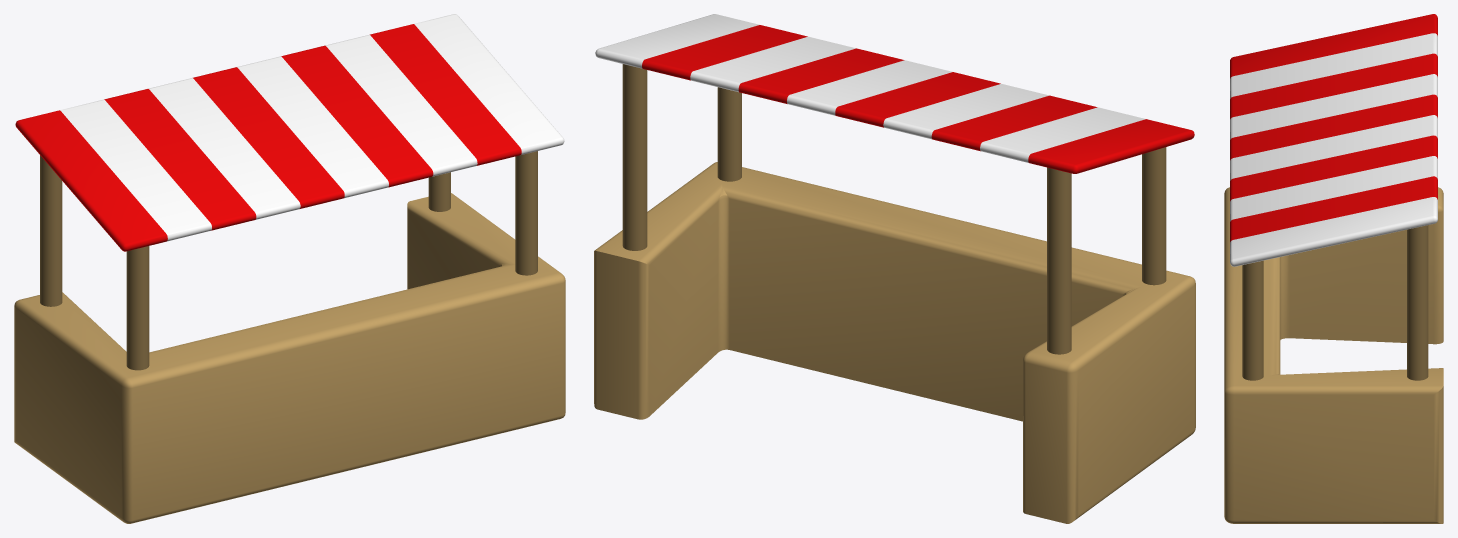
File: Tenda.fbx
3 renders of one model, left to right at view 1: azimuth 30°, elevation 25°; view 2: azimuth 150°, elevation 25°; view 3: azimuth 270°, elevation 25°, orthographic. The views are drawn at different scales.
Parts seen in each view (by area): view 1: Cube.001, Cube.002, Cylinder, Cylinder.001, Cylinder.003, Cylinder.002; view 2: Cube.001, Cube.002, Cylinder.002, Cylinder, Cylinder.001, Cylinder.003; view 3: Cube.001, Cube.002, Cylinder.002, Cylinder.003.
Boxes of the visible parts, x1=… form: Cube.001: x1=14, y1=193, x2=565, y2=523; Cube.002: x1=15, y1=14, x2=564, y2=251; Cylinder: x1=40, y1=155, x2=62, y2=306; Cylinder.001: x1=126, y1=246, x2=149, y2=370; Cylinder.003: x1=515, y1=151, x2=537, y2=275; Cylinder.002: x1=428, y1=172, x2=450, y2=211; Cube.001: x1=594, y1=162, x2=1195, y2=523; Cube.002: x1=595, y1=14, x2=1194, y2=173; Cylinder.002: x1=622, y1=64, x2=647, y2=250; Cylinder: x1=1047, y1=167, x2=1071, y2=354; Cylinder.001: x1=1142, y1=147, x2=1166, y2=285; Cylinder.003: x1=717, y1=87, x2=741, y2=181; Cube.001: x1=1224, y1=187, x2=1443, y2=523; Cube.002: x1=1230, y1=14, x2=1437, y2=266; Cylinder.002: x1=1407, y1=225, x2=1428, y2=380; Cylinder.003: x1=1242, y1=260, x2=1263, y2=380.
Size of the model in its own units: 178 by 125 by 80.39.
